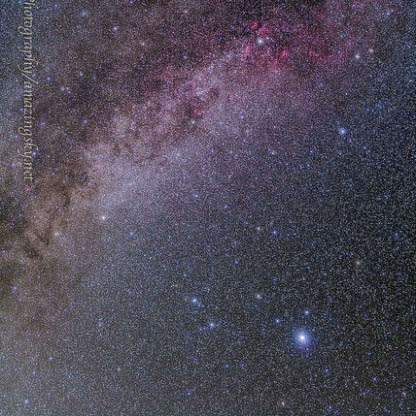Lyra: (288, 324, 316, 352), (184, 291, 205, 311), (200, 315, 219, 335), (266, 315, 285, 334), (250, 287, 267, 307), (295, 304, 312, 320)
